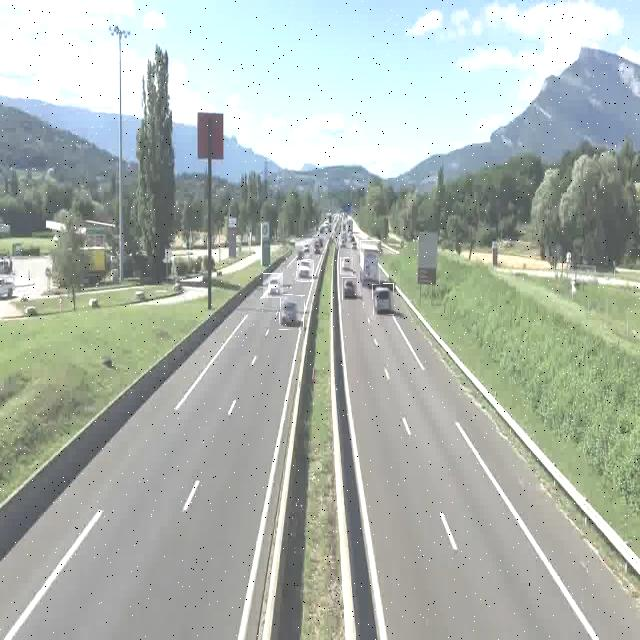Car: (280, 295, 304, 330), (373, 284, 394, 315), (263, 273, 283, 298), (297, 260, 314, 282), (342, 277, 357, 300), (340, 258, 353, 276)
Truck: (360, 240, 380, 289)
